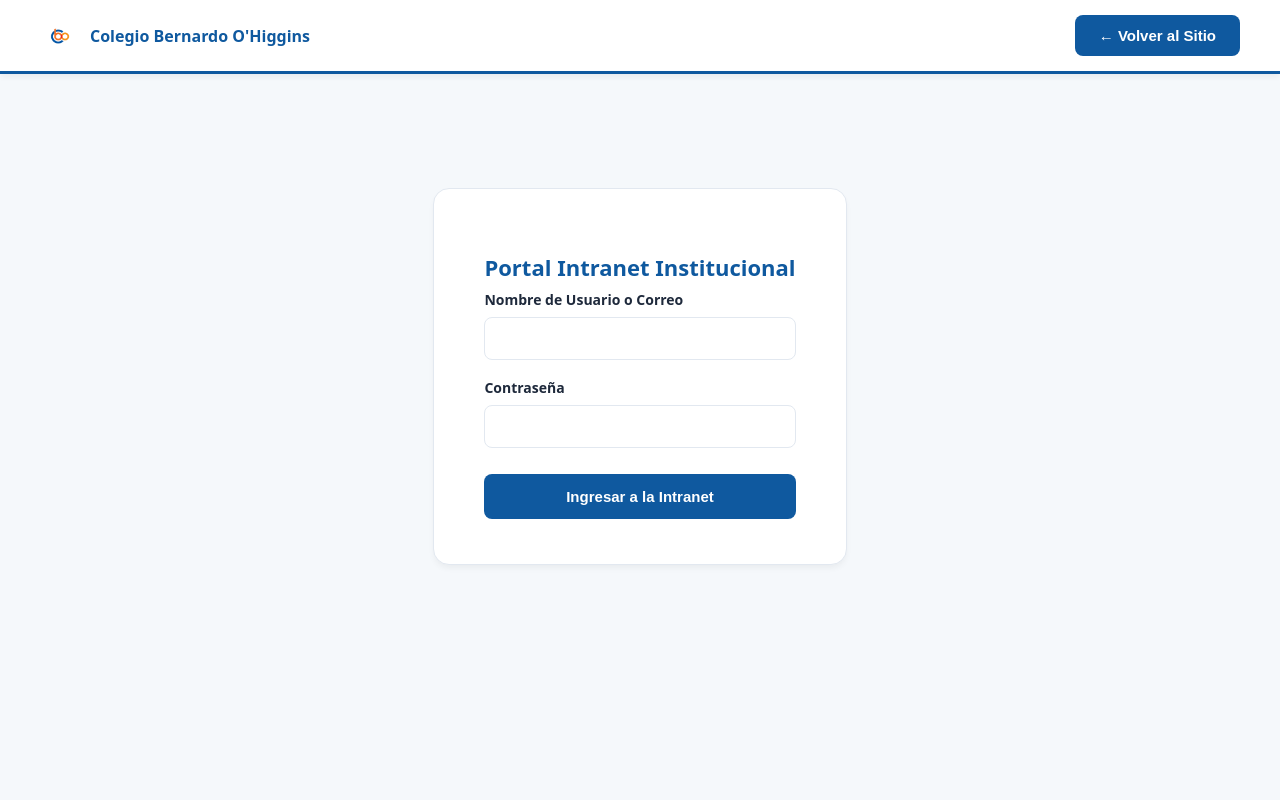
Test: Página Login › debe mostrar mensaje cuando las credenciales son inválidas
Type "wrong" into the field labelled "Nombre de Usuario o Correo" at (640, 339), box x1=484 y1=317 x2=796 y2=360
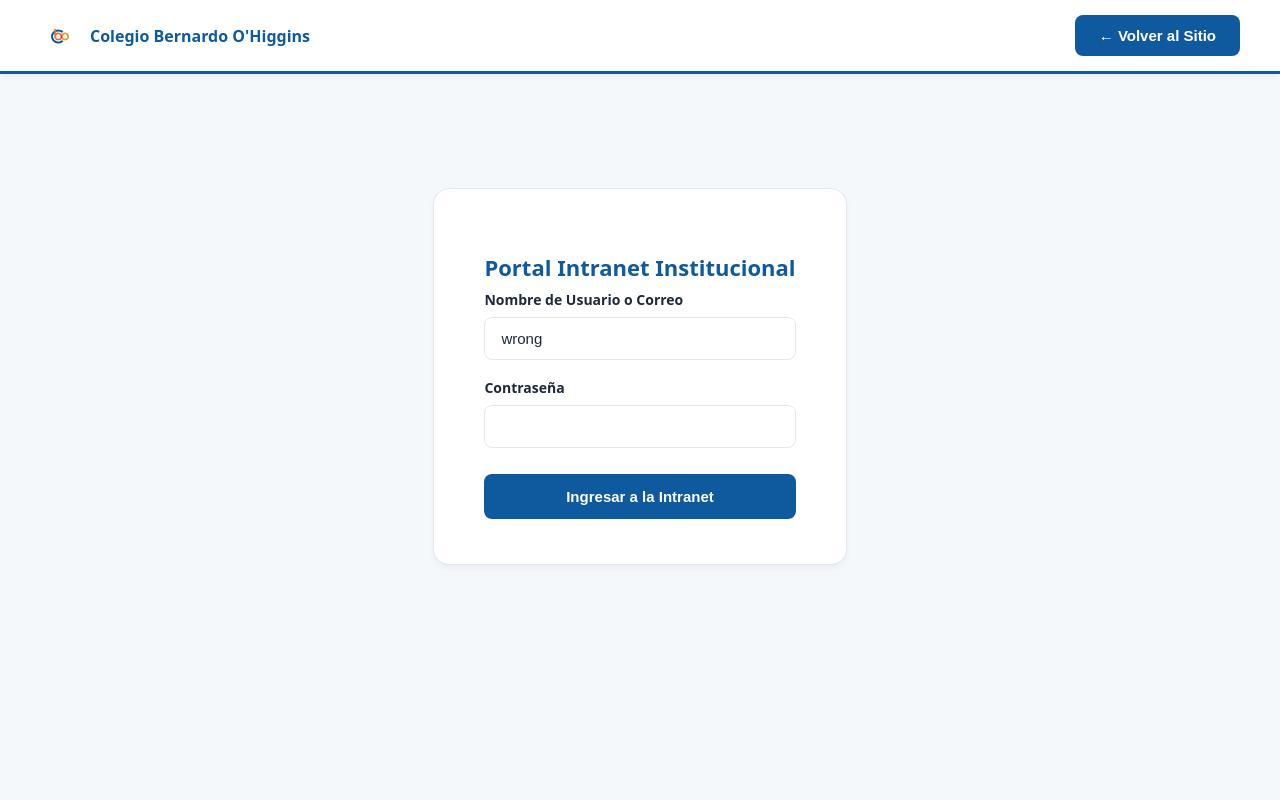
Type "wrong" into the password field labelled "Contraseña" at (640, 427), box x1=484 y1=405 x2=796 y2=448
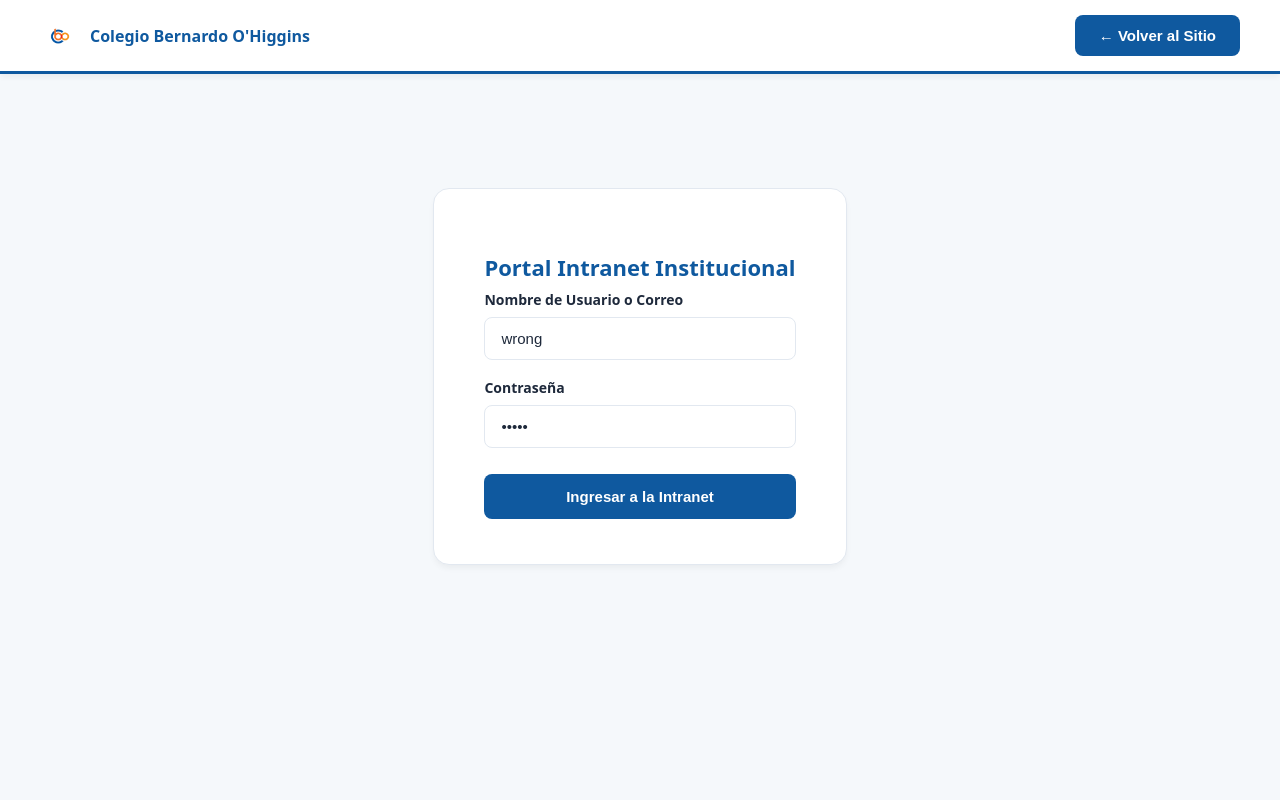
Click the button "Ingresar a la Intranet" at (640, 497), box x1=484 y1=474 x2=796 y2=519
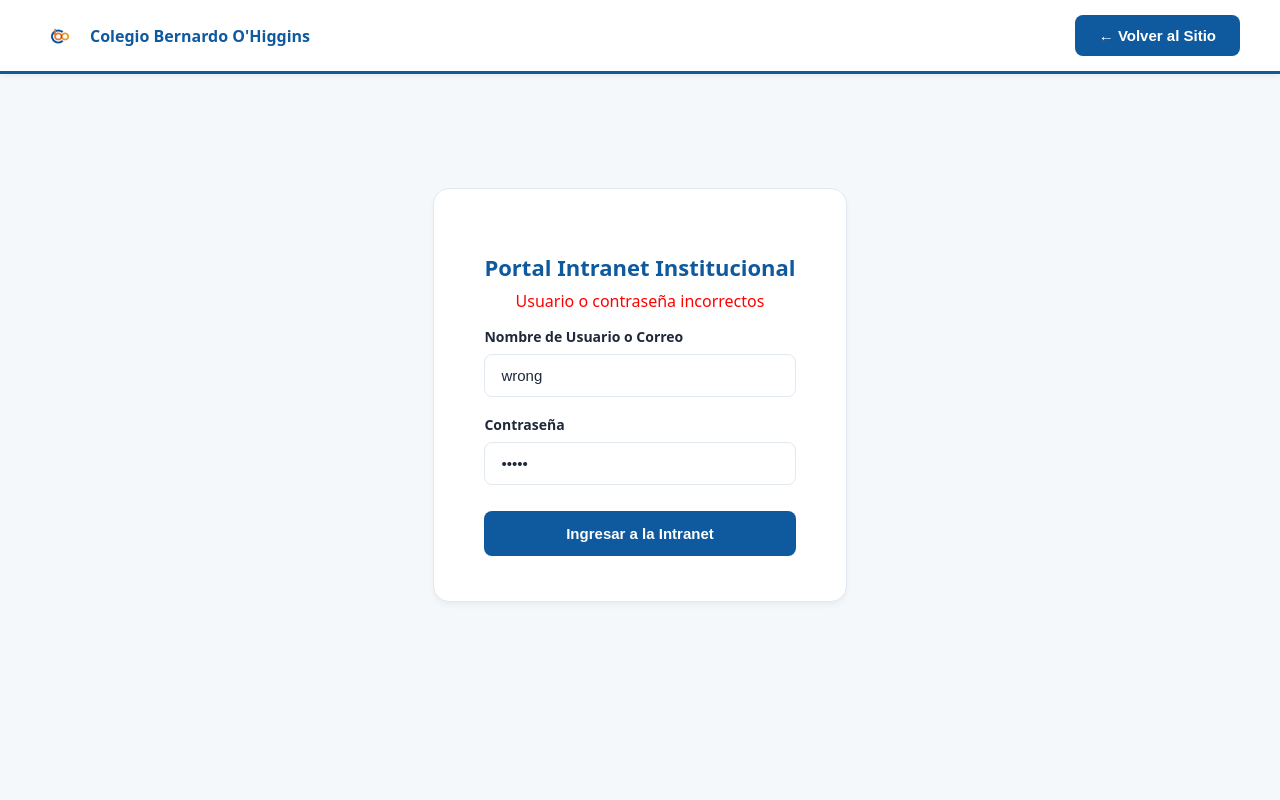
Result: the message reads "Usuario o contraseña incorrectos" at x1=516 y1=290 x2=764 y2=312
